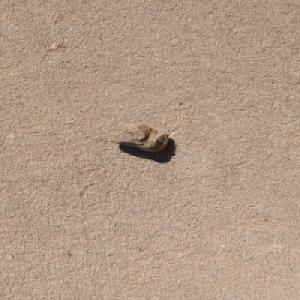Rock: (105, 121, 170, 152)
